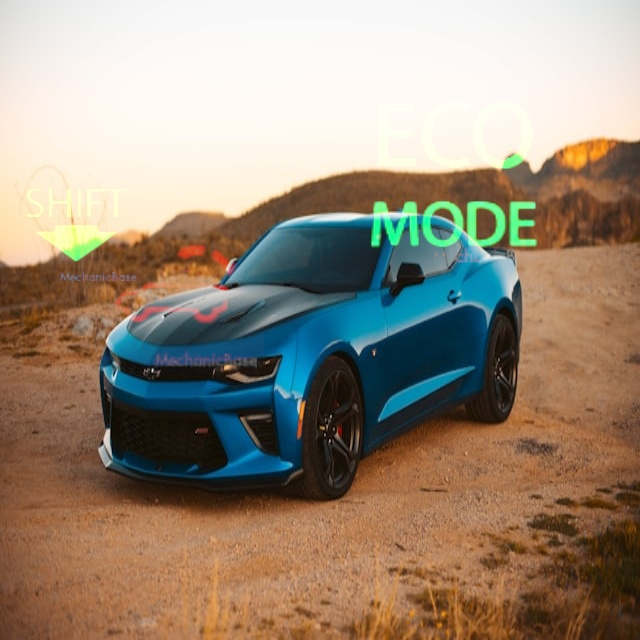symbol: (358, 81, 549, 272), (85, 196, 264, 375), (7, 153, 142, 288)
